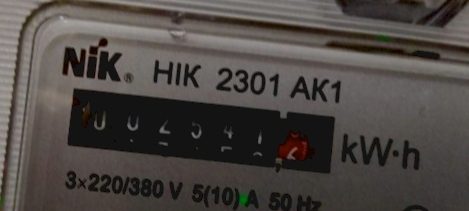0: (122, 99, 145, 134), (91, 101, 111, 132)
1: (249, 112, 269, 146)
2: (153, 102, 178, 138)
4: (219, 109, 239, 142)
5: (186, 108, 206, 142)
6: (282, 140, 301, 163)
screen: (50, 68, 359, 194)
